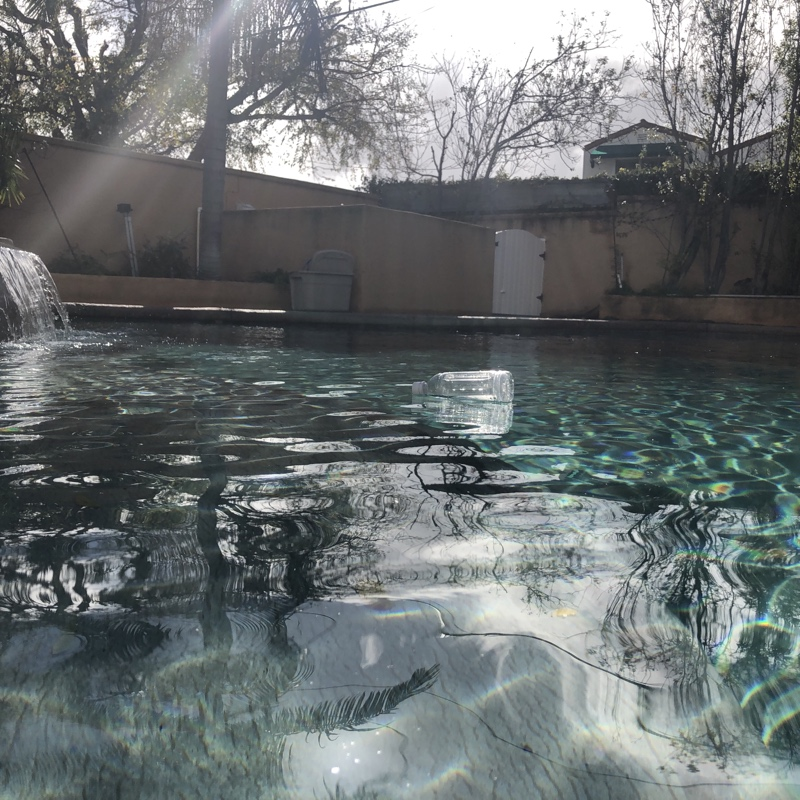Plastic Bottle: (410, 369, 516, 405)
